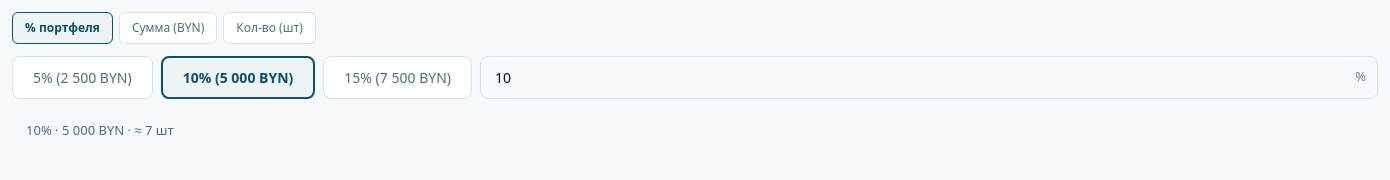
Test: PositionSizeControl › переводит количество бумаг в сумму и процент
The width and height of the screenshot is (1390, 180).
Click the button "Кол-во (шт)" at [270, 28], box [223,12,316,44]
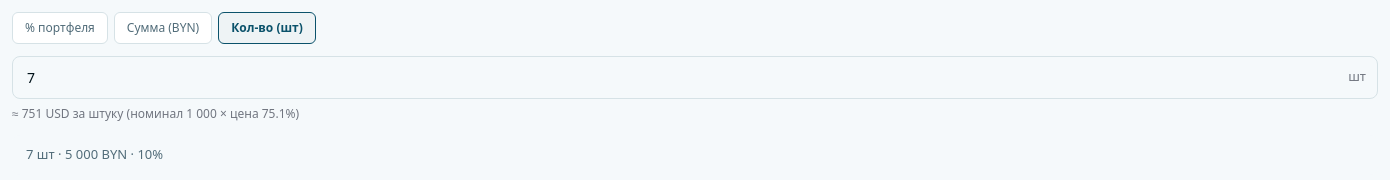
Replace the text in the field named "Количество облигаций" with "10" at [695, 78], box [12,56,1378,99]
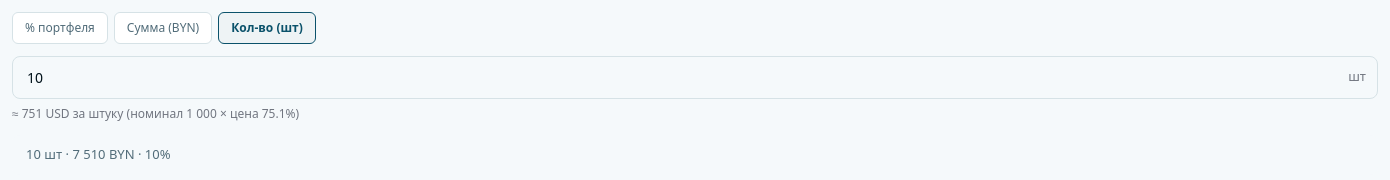
Now the text "10 шт · 7 510 BYN · 10%" is shown, box [26,145,170,163]
